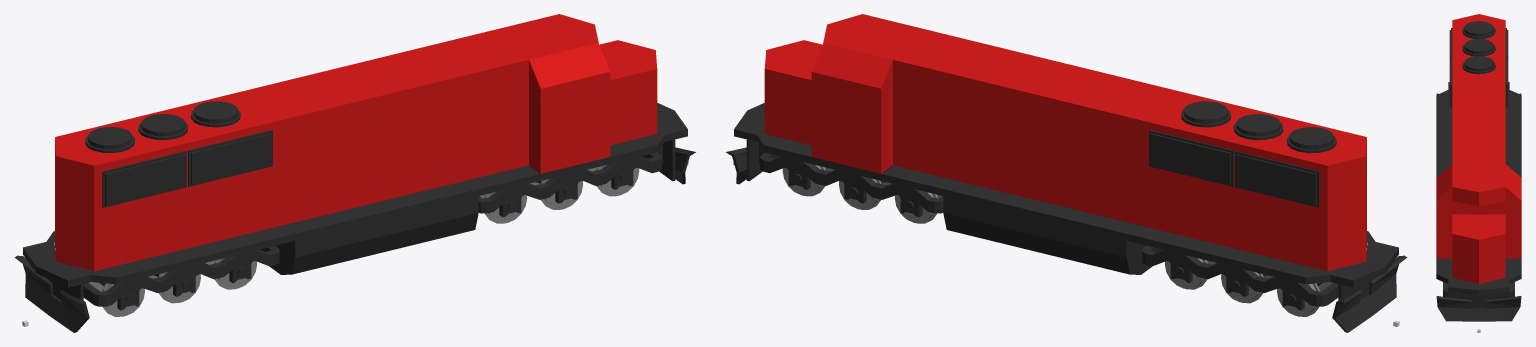
The model's file is Locomotive_USA_Couplers_Mesh.glb.
3 views of the same model, side by side, from view 1: azimuth 30°, elevation 25°; view 2: azimuth 150°, elevation 25°; view 3: azimuth 270°, elevation 25° (orthographic). The views are drawn at different scales.
Parts seen in each view (by area): view 1: Locomotive_USA_Hull, Locomotive_USA_Bogie_2, Locomotive_USA_Bogie_1; view 2: Locomotive_USA_Hull, Locomotive_USA_Bogie_2, Locomotive_USA_Bogie_1; view 3: Locomotive_USA_Hull, Locomotive_USA_Bogie_1.
Part boxes in pixels (<box>): Locomotive_USA_Hull: <box>14,14,695,332</box>; Locomotive_USA_Bogie_2: <box>83,246,279,316</box>; Locomotive_USA_Bogie_1: <box>478,152,661,223</box>; Locomotive_USA_Hull: <box>726,14,1407,332</box>; Locomotive_USA_Bogie_2: <box>1142,246,1338,316</box>; Locomotive_USA_Bogie_1: <box>760,152,943,223</box>; Locomotive_USA_Hull: <box>1436,14,1521,321</box>; Locomotive_USA_Bogie_1: <box>1443,282,1514,297</box>.
Bounding box in the file's own units: 1.71 × 0.416 × 0.2807.
3 materials, 3 textured.
